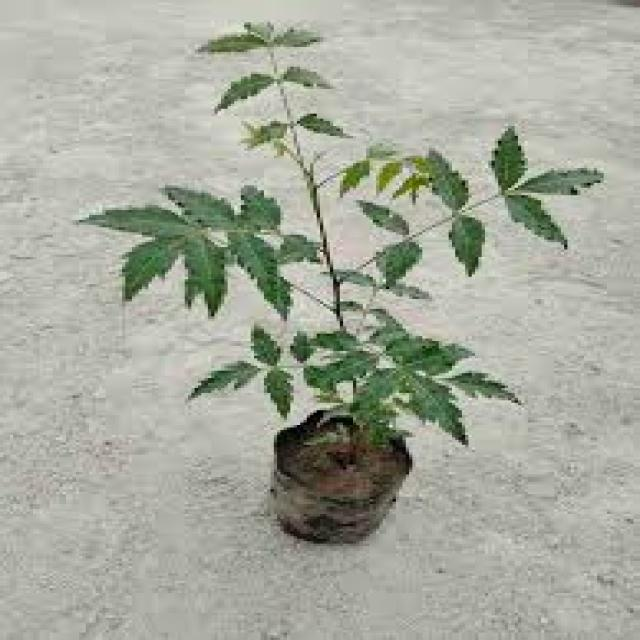Neem-Tree: (80, 23, 604, 443)
